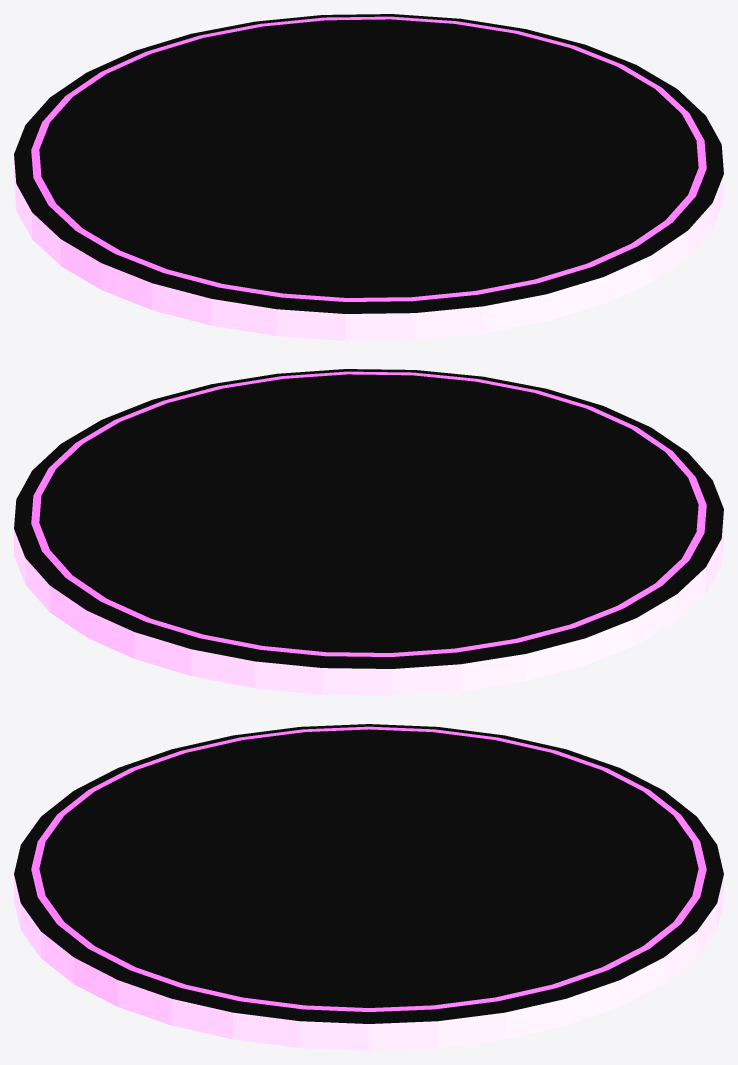
Rendered from plateformeNiveauInfini.fbx.
3 renders of one model, top to bottom at view 1: azimuth 30°, elevation 25°; view 2: azimuth 150°, elevation 25°; view 3: azimuth 270°, elevation 25°, orthographic.
Visible parts, largest first — view 1: Cylindre, Cylindre.001; view 2: Cylindre, Cylindre.001; view 3: Cylindre, Cylindre.001.
Part boxes in pixels (left/top/right/bottom): Cylindre: left=31, top=16, right=706, bottom=301; Cylindre.001: left=14, top=14, right=723, bottom=340; Cylindre: left=31, top=371, right=706, bottom=656; Cylindre.001: left=14, top=369, right=723, bottom=695; Cylindre: left=31, top=726, right=706, bottom=1011; Cylindre.001: left=14, top=724, right=723, bottom=1050.
Bounding box in the file's own units: 200 × 9.99 × 200.
